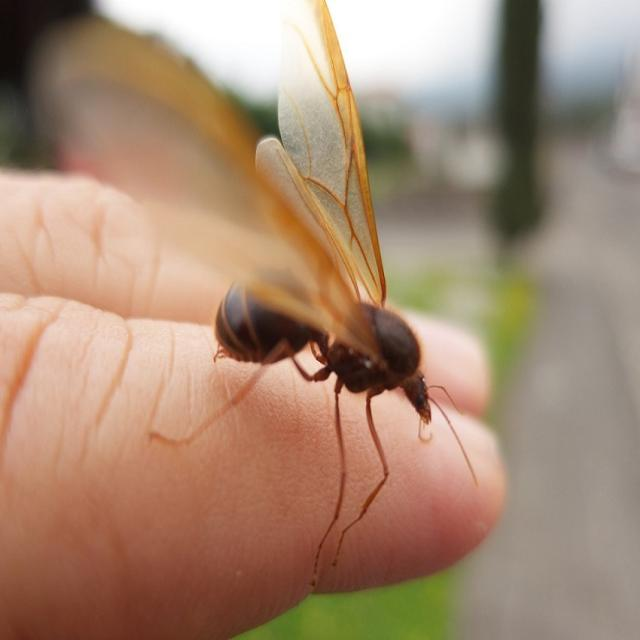Alive-Male-Alate: (148, 0, 478, 587)
